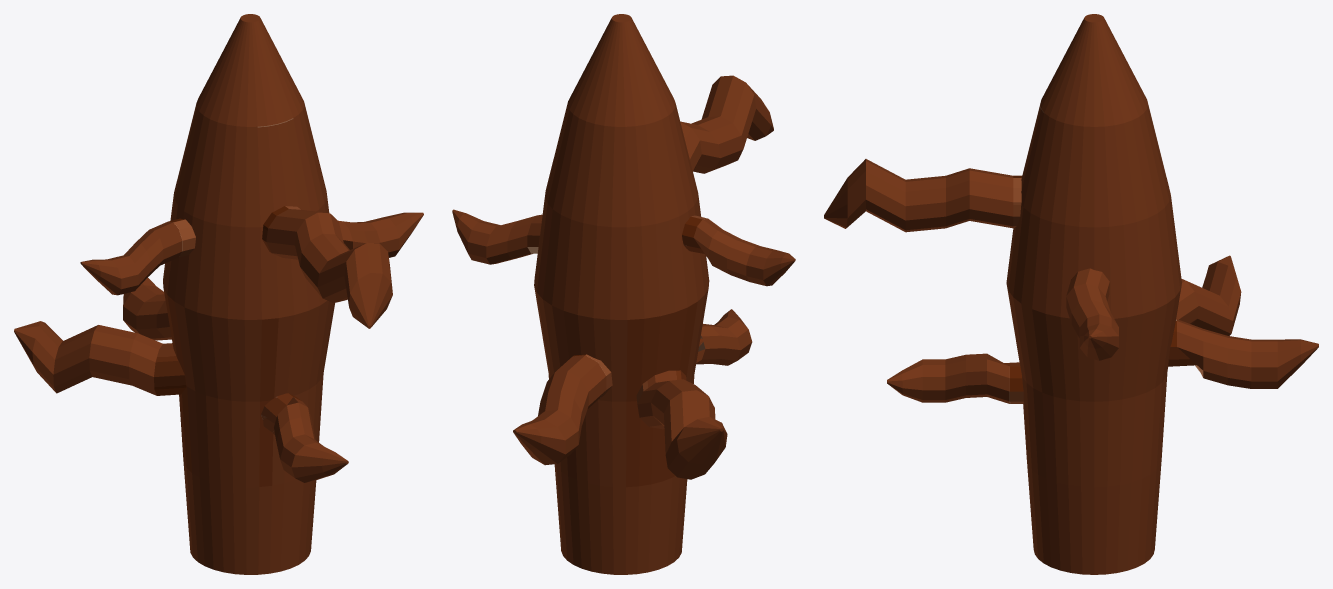
The model's file is Arbol.fbx.
3 views of the same model, side by side, from view 1: azimuth 30°, elevation 25°; view 2: azimuth 150°, elevation 25°; view 3: azimuth 270°, elevation 25° (orthographic).
Parts seen in each view (by area): view 1: Arbol; view 2: Arbol; view 3: Arbol.
Part boxes in pixels (bbox=[...]): Arbol: bbox=[14, 14, 423, 574]; Arbol: bbox=[452, 14, 795, 574]; Arbol: bbox=[824, 14, 1318, 574].
Bounding box in the file's own units: 326 × 483 × 408.
Materials: 1 (1 with a texture image).
